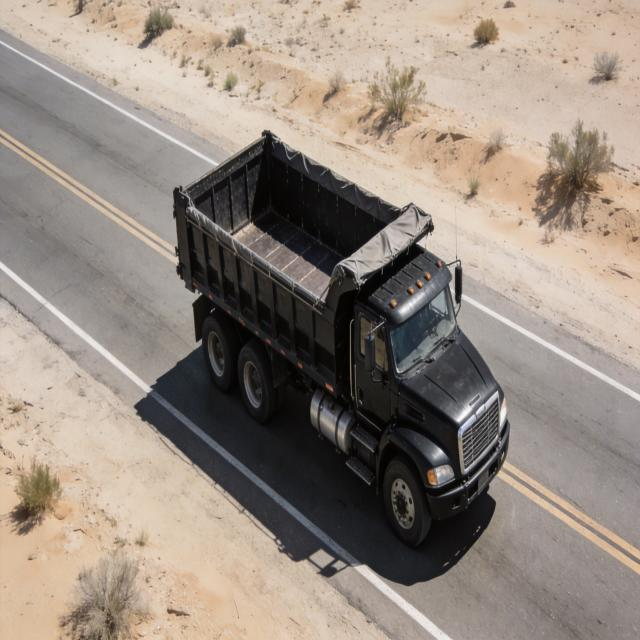Box: (174, 125, 433, 294)
Truck: (168, 78, 514, 522)
